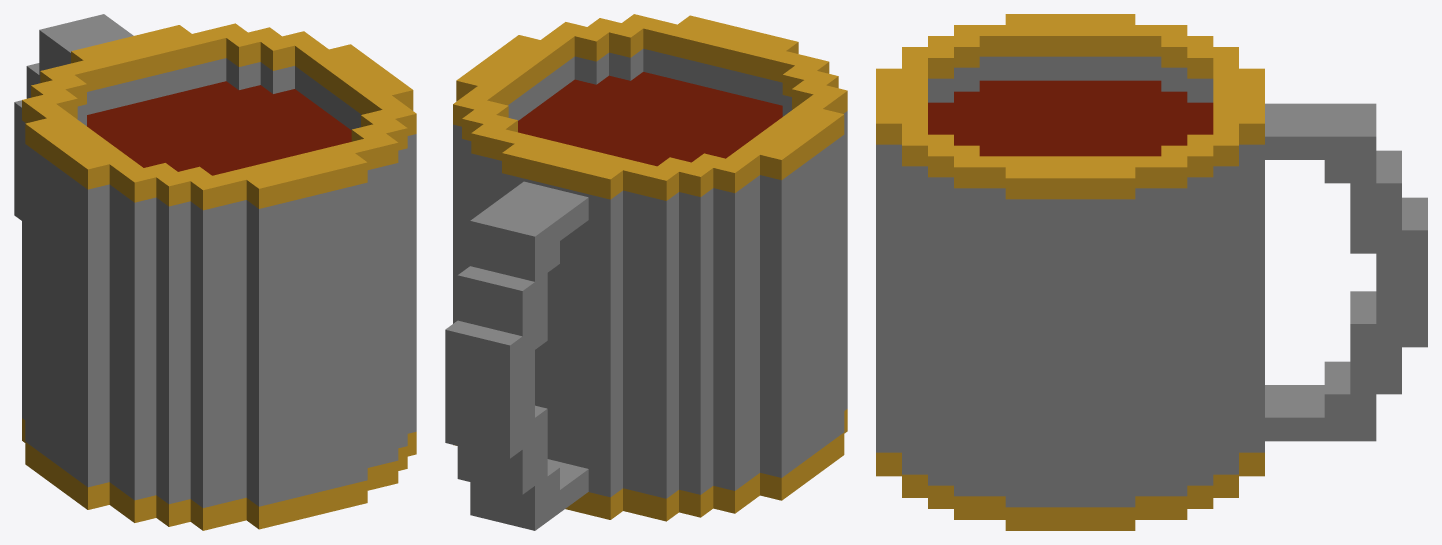
File: Kubek_goraca_czekolada.fbx
The picture shows the model from 3 angles, left to right: view 1: azimuth 30°, elevation 25°; view 2: azimuth 150°, elevation 25°; view 3: azimuth 270°, elevation 25°; orthographic projection. The views are drawn at different scales.
Visible parts, largest first — view 1: Cylinder, Plane; view 2: Cylinder, Plane; view 3: Cylinder, Plane.
Boxes of the visible parts, x1,y1,x2,y2 form: Cylinder: [22, 23, 416, 530]; Plane: [14, 14, 133, 220]; Cylinder: [453, 14, 847, 521]; Plane: [445, 181, 588, 530]; Cylinder: [876, 14, 1264, 530]; Plane: [1265, 103, 1427, 441].
Size of the model in its own units: 103 by 103 by 146.
